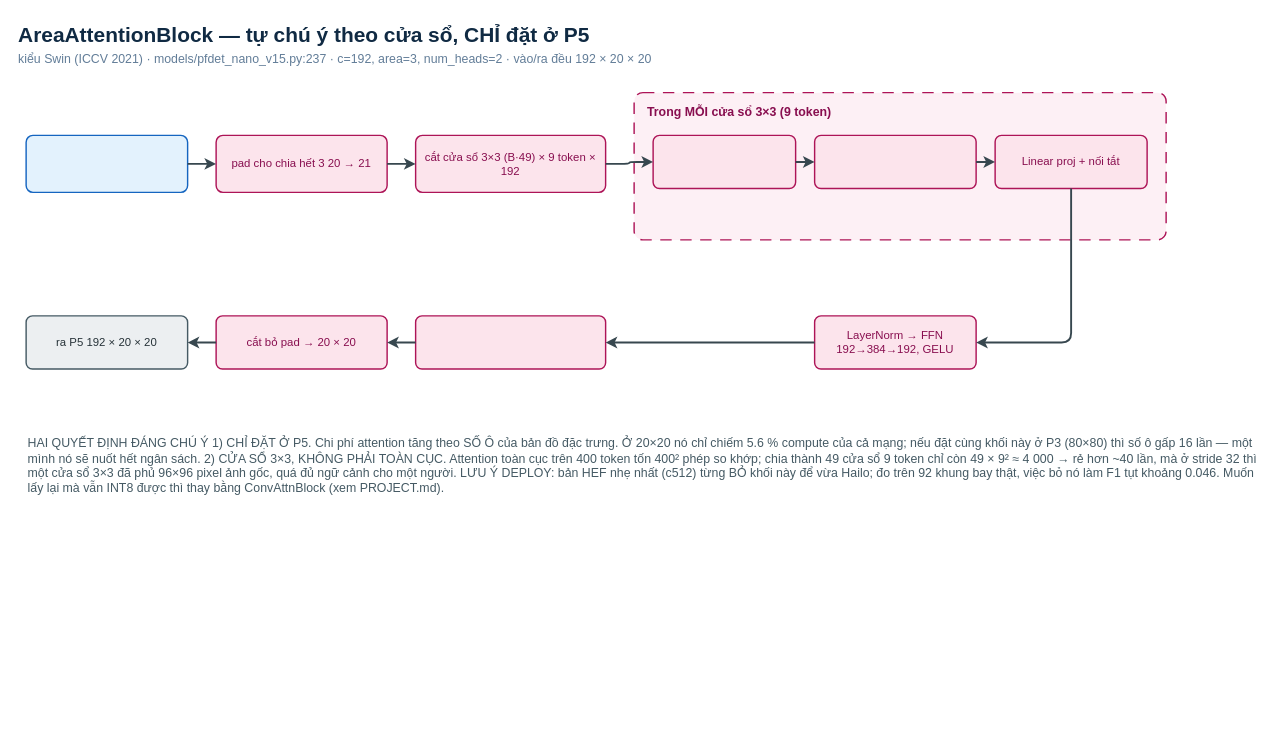
The diagram is 1277 pixels wide and 731 high, and some of its shapes have lost their labels. Here are the shapes that lost their labels. From the top down, the centre of each, then its label:
At (106,163): "P5 192 × 20 × 20".
At (724,161): "LayerNorm qkv 1 lớp Linear".
At (894,161): "softmax(QKᵀ/√d)·V 2 head × 96 chiều".
At (510,342): "ghép cửa sổ về 192 × 21 × 21".
